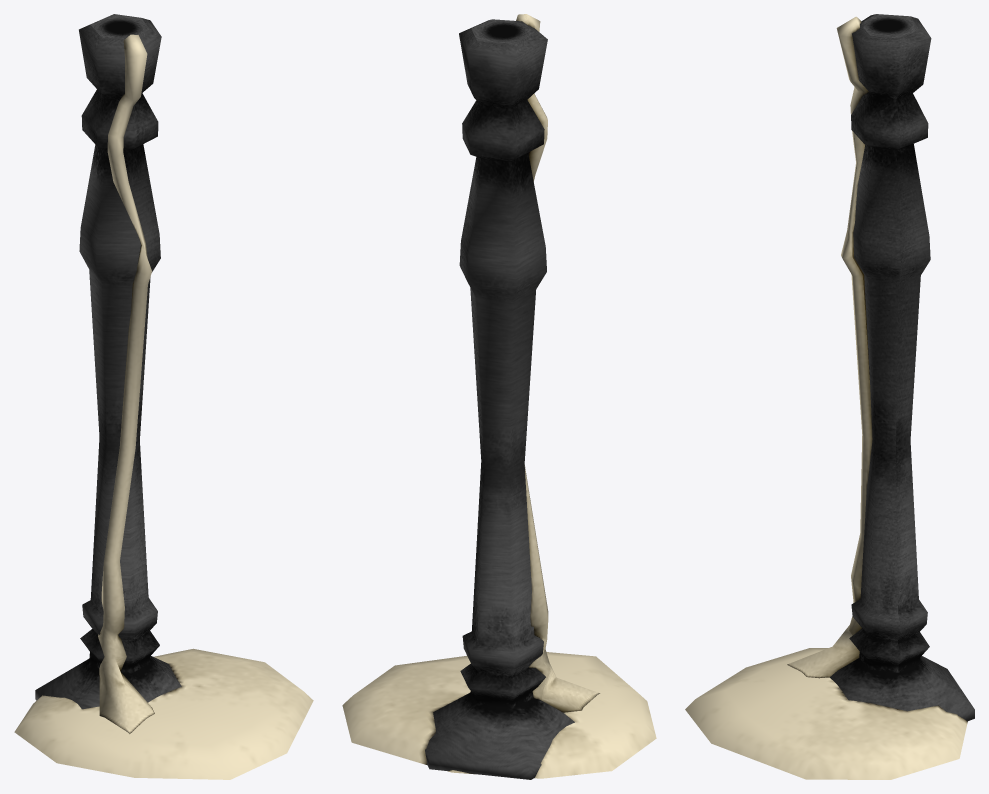
The model's file is candlestick.FBX.
3 views of the same model, side by side, from view 1: azimuth 30°, elevation 25°; view 2: azimuth 150°, elevation 25°; view 3: azimuth 270°, elevation 25° (orthographic). The views are drawn at different scales.
Parts seen in each view (by area): view 1: tall candle stick; view 2: tall candle stick; view 3: tall candle stick.
Part boxes in pixels (x1,y1,x2,y2): tall candle stick: (14,14,313,779); tall candle stick: (342,14,656,779); tall candle stick: (685,14,974,779).
Size of the model in its own units: 9.86 by 25.52 by 9.61.
1 material, 1 textured.
